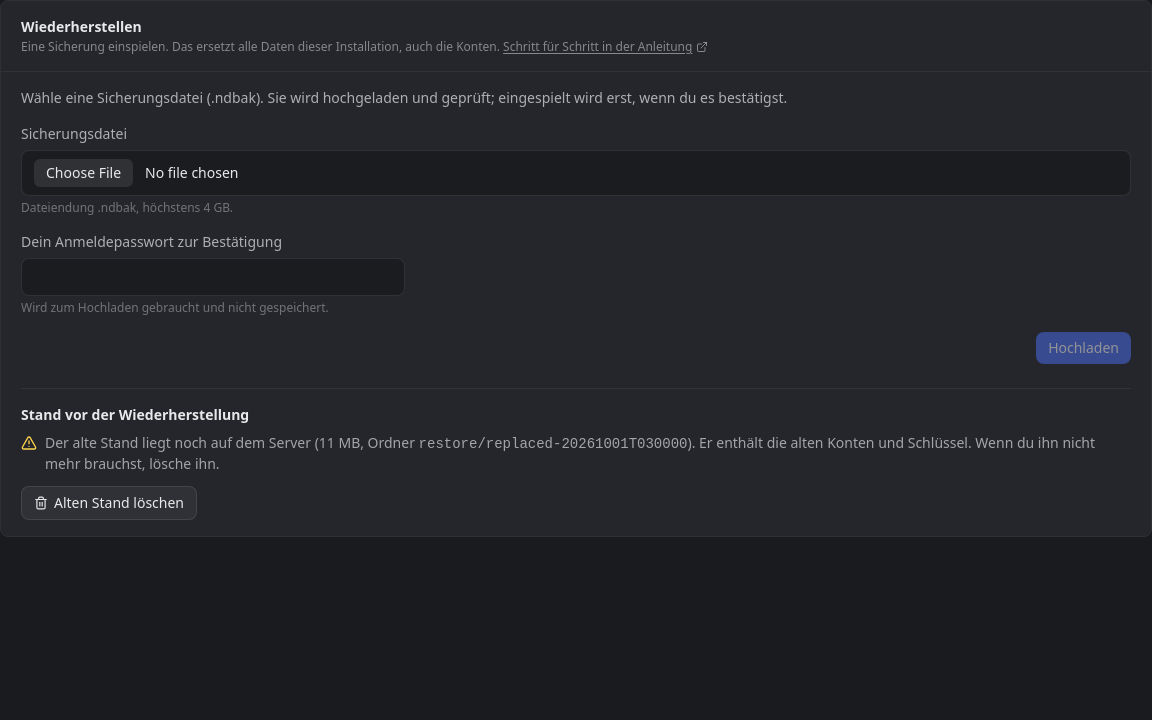
it: Karte Wiederherstellen: Stand vom Server › alter Stand: Größe zeigen und mit Passwort löschen
This screenshot has width=1152, height=720.
Expected: the text "restore/replaced-20261001T030000" is shown, [419,436,688,452]
Click the button "Alten Stand löschen" at (109, 503), box [21,486,197,520]
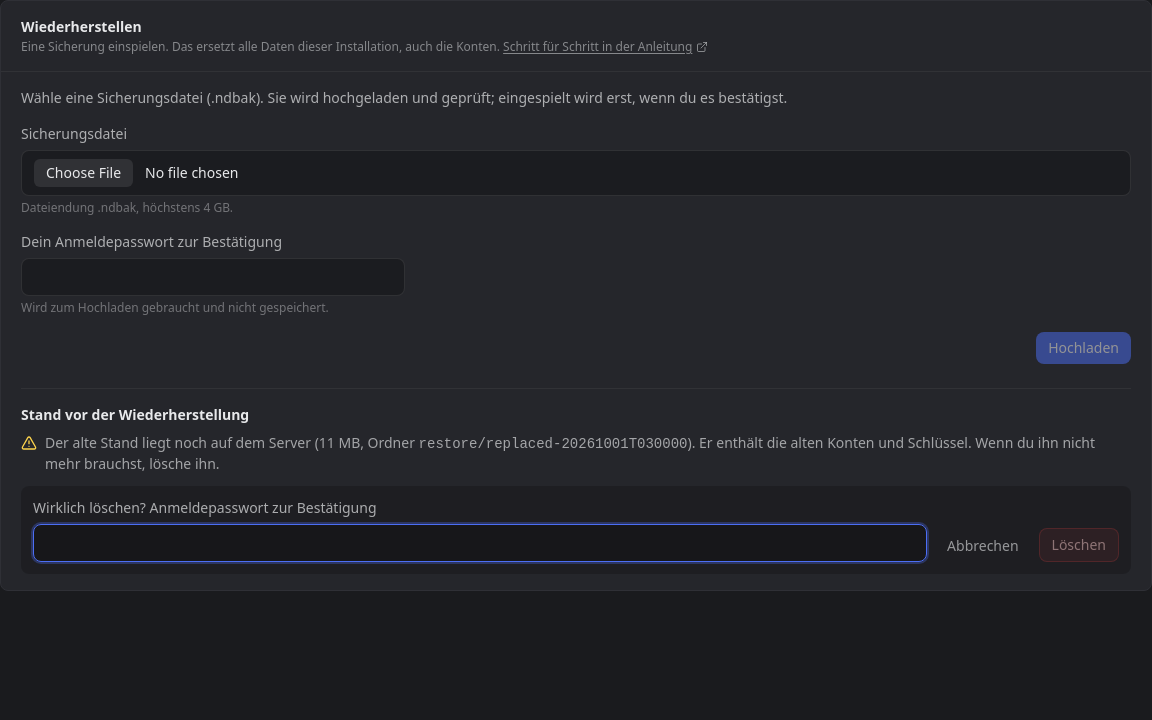
Expected: the button "Löschen" is disabled, [1039,528,1119,562]
Type "konto-pw" into the password field named "Anmeldepasswort zum Löschen des alten Stands" at (480, 543), box [33,524,927,562]
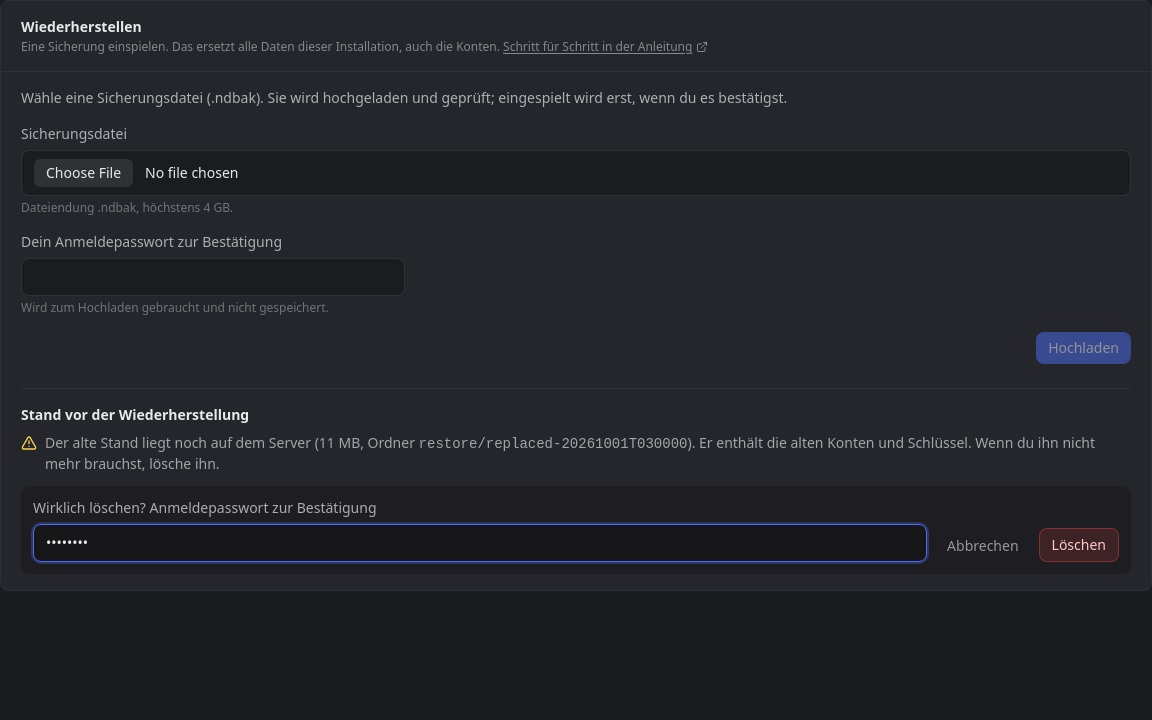
Click the button "Löschen" at (1079, 545), box [1039,528,1119,562]
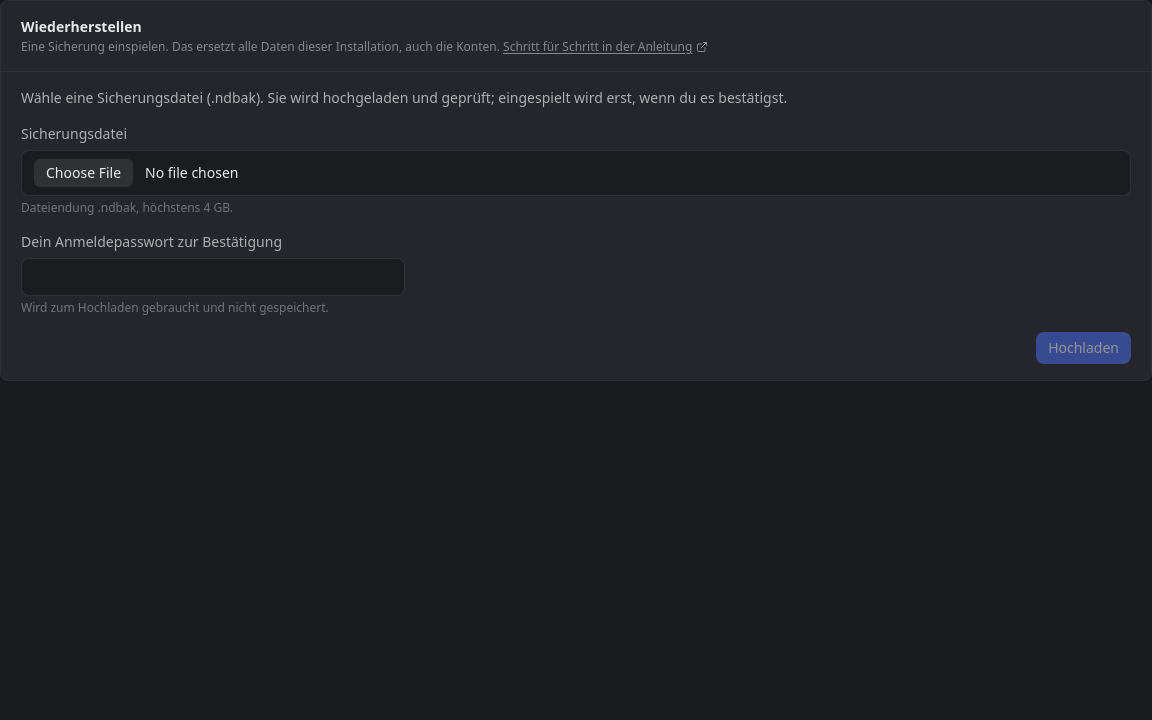
Expected: the text "replaced-20261001T030000" is gone
